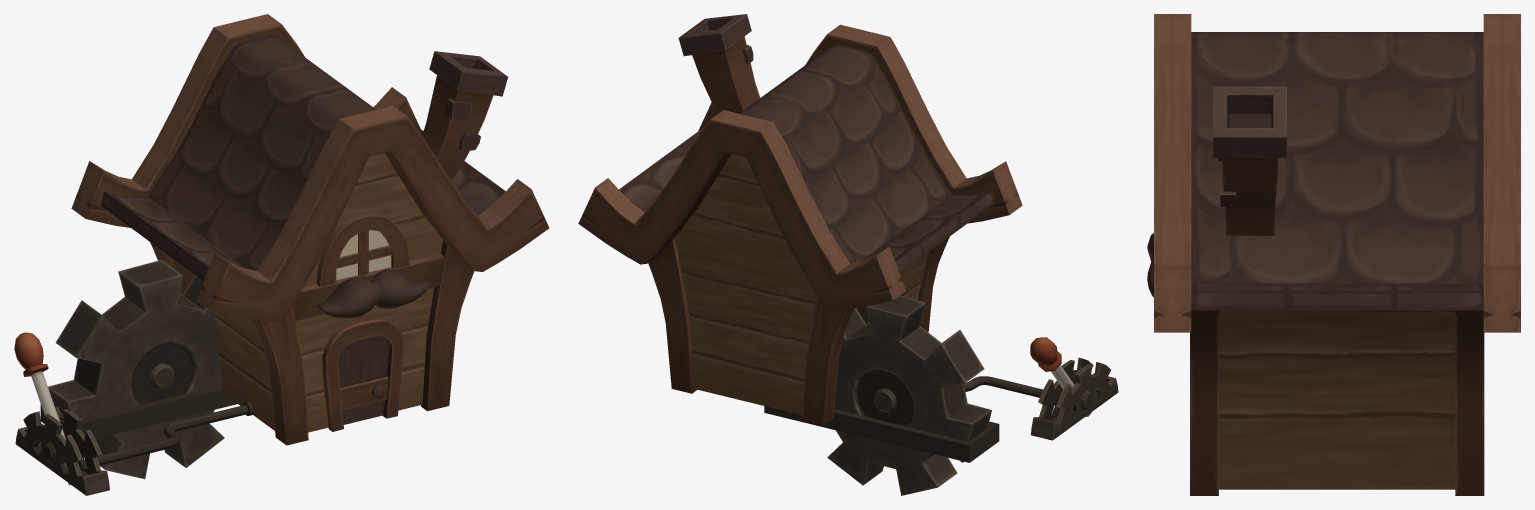
File: House3@PullLever.fbx
The picture shows the model from 3 angles, left to right: view 1: azimuth 30°, elevation 25°; view 2: azimuth 150°, elevation 25°; view 3: azimuth 270°, elevation 25°; orthographic projection. The views are drawn at different scales.
Visible parts, largest first — view 1: House3, Gear, House3_props, chimney, Lever; view 2: House3, Gear, House3_props, chimney, Lever; view 3: House3, chimney.
Part boxes in pixels (x1,y1,x2,y2): House3: (71,14,549,445); Gear: (48,260,224,479); House3_props: (15,385,253,495); chimney: (422,51,507,180); Lever: (14,332,71,485); House3: (578,24,1022,425); Gear: (827,295,991,495); House3_props: (764,357,1118,462); chimney: (678,14,759,113); Lever: (1030,337,1091,416); House3: (1147,14,1520,495); chimney: (1213,86,1286,235).
Size of the model in its own units: 616 by 508 by 333.
